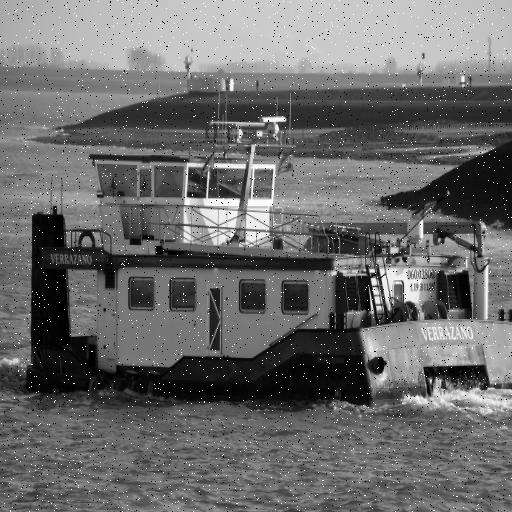tugboat: (23, 91, 512, 418)
